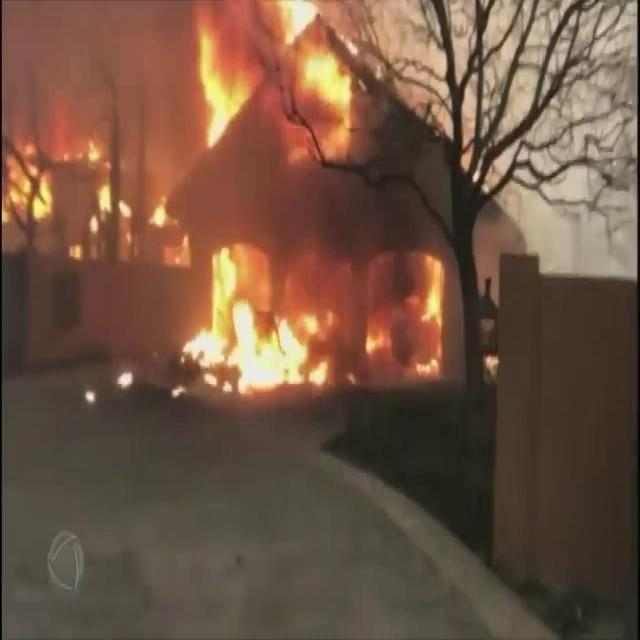fire: (157, 243, 337, 400), (185, 8, 260, 161), (283, 50, 365, 167)
